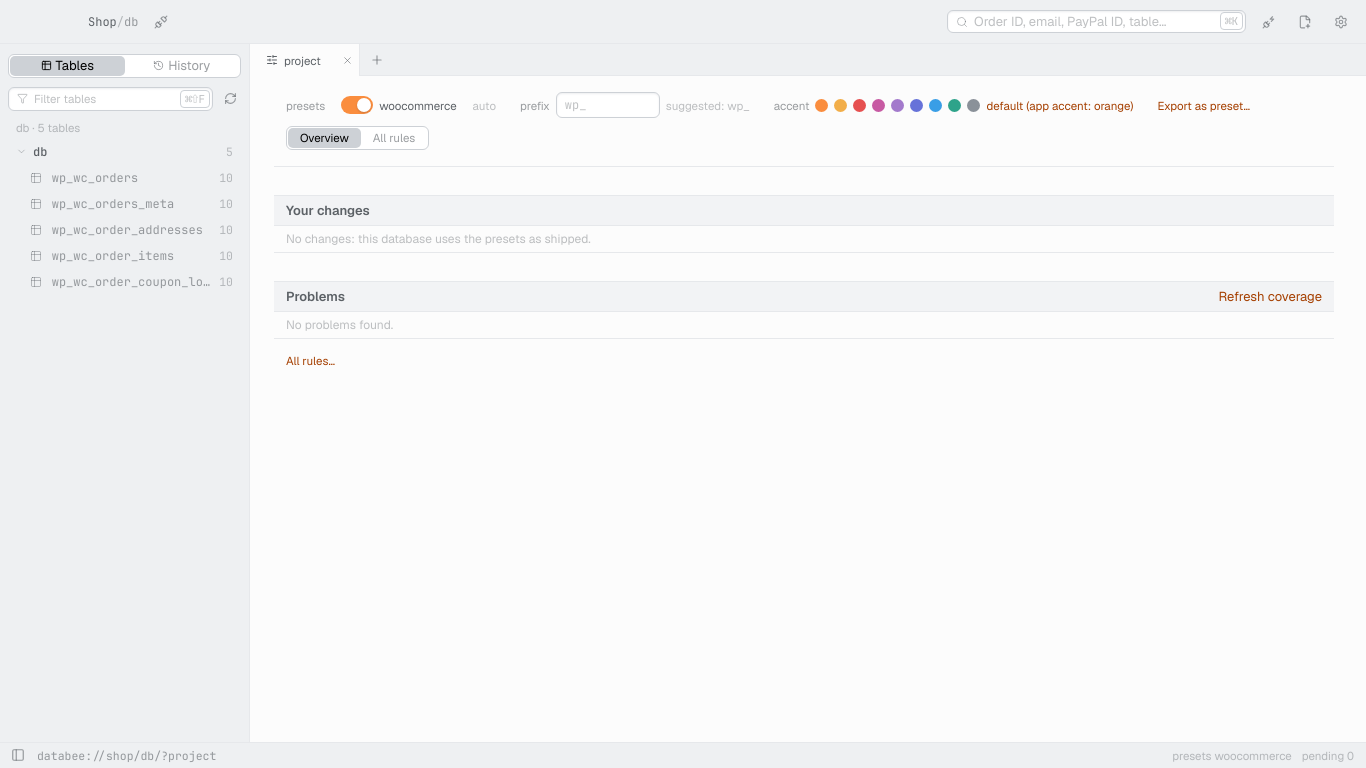
Scenario: ProjectPanel › overview › switching sections › shows the per-table listing from All rules… and returns with Overview
Expected: the element named "Databases" is shown, [16,144,233,290]
Expected: the element named "Presets and prefix" is shown, [274,76,1334,167]
Click the button "All rules…" at (310, 360), box [286,353,335,368]
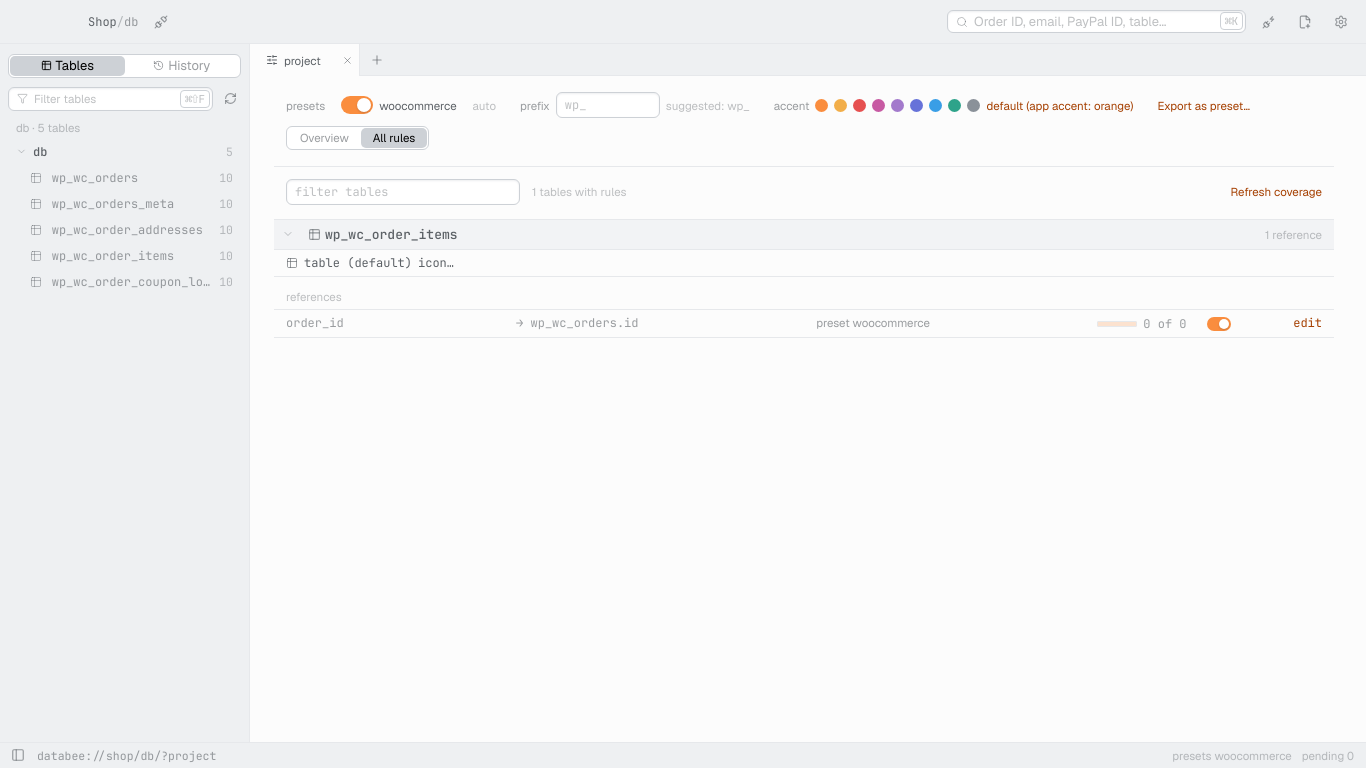
Expected: the element "wp_wc_order_items" is shown, [274,205,1334,338]
Expected: the search field labelled "filter tables" is shown, [286,179,520,205]
Expected: the text "Your changes" is gone
Click the button "Overview" at (324, 138), box [288,128,361,148]
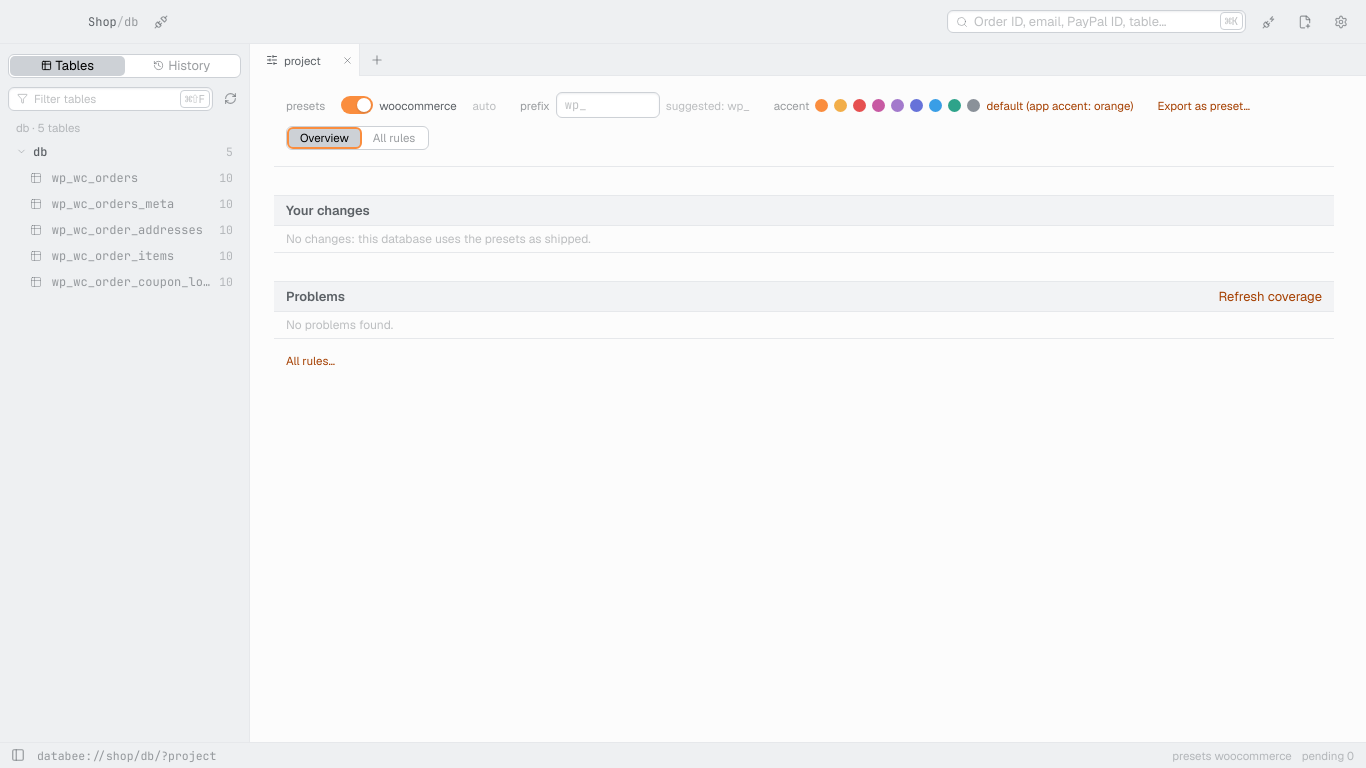
Expected: the element "Your changes" is shown, [274,167,1334,253]
